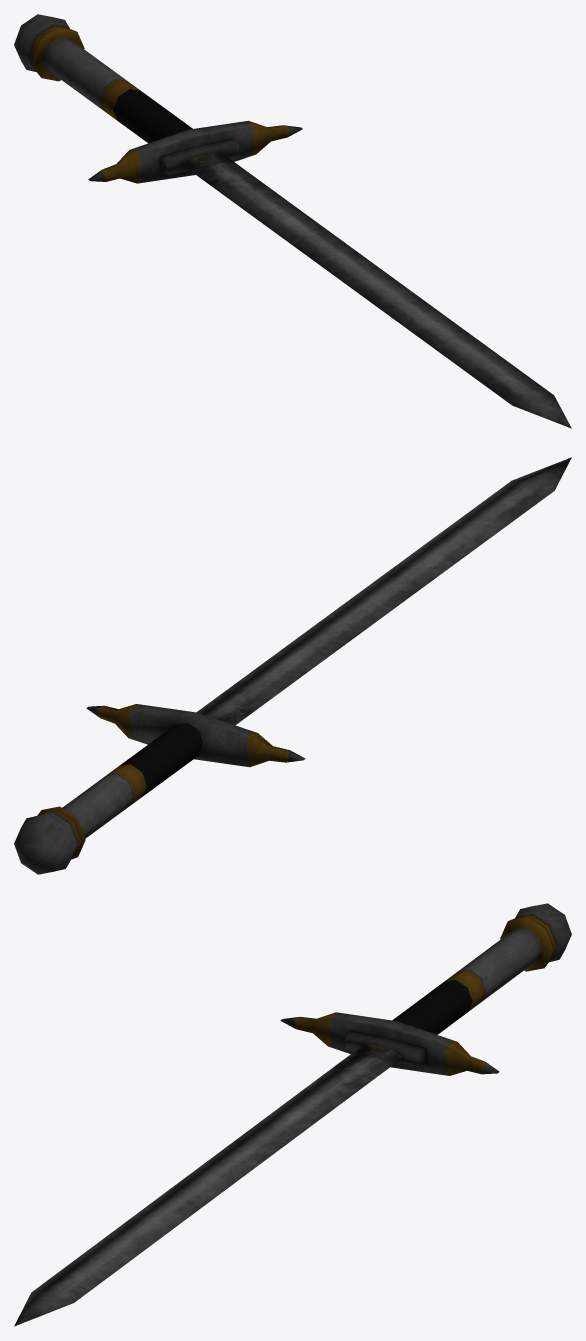
The model's file is Sword01.fbx.
The picture shows the model from 3 angles, top to bottom: view 1: azimuth 30°, elevation 25°; view 2: azimuth 150°, elevation 25°; view 3: azimuth 330°, elevation 25°; orthographic projection.
Visible parts, largest first — view 1: Paladin_J_Nordstrom; view 2: Paladin_J_Nordstrom; view 3: Paladin_J_Nordstrom.
Part boxes in pixels (x1,y1,x2,y2): Paladin_J_Nordstrom: (14,14,571,428); Paladin_J_Nordstrom: (14,457,571,874); Paladin_J_Nordstrom: (14,903,571,1326).
Bounding box in the file's own units: 9.46 × 2.43 × 41.29.
1 material, 1 textured.
